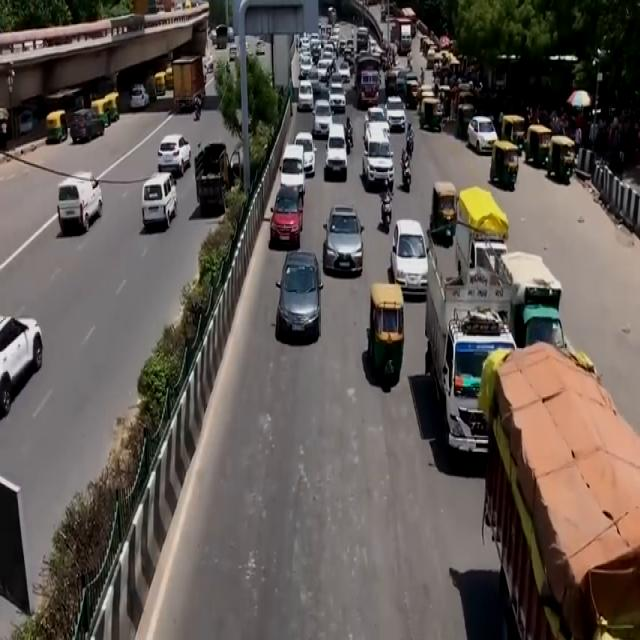TRUCK: (489, 349, 640, 640), (425, 230, 517, 470), (172, 58, 205, 113), (356, 54, 382, 108)
